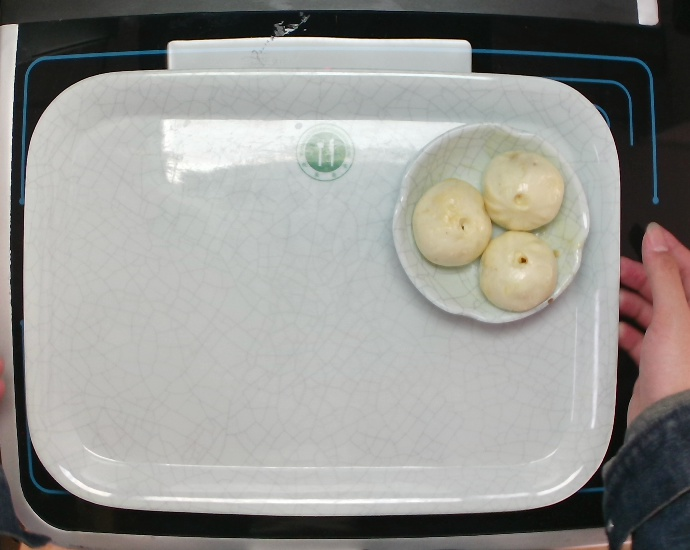JYsf-Ao_Yuan_Wan: (386, 116, 594, 327)
